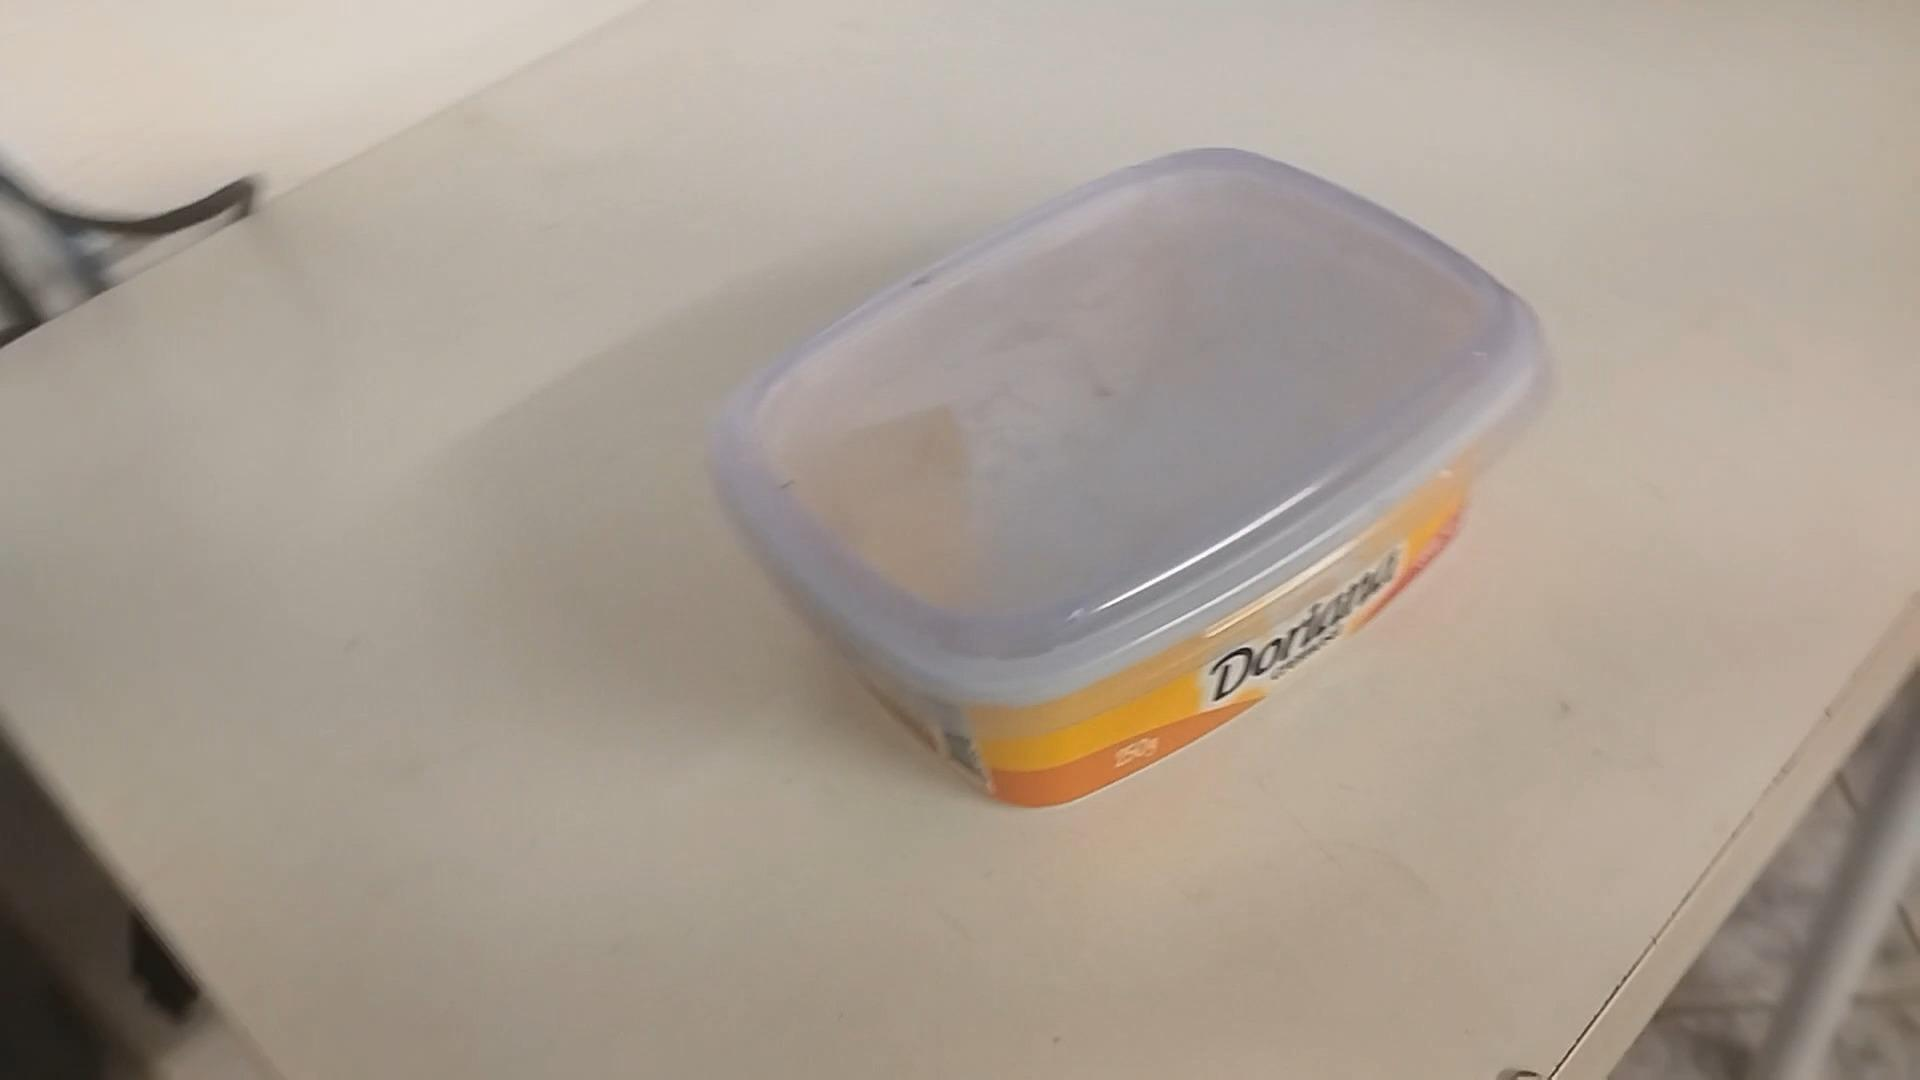butter: (711, 152, 1545, 808)
